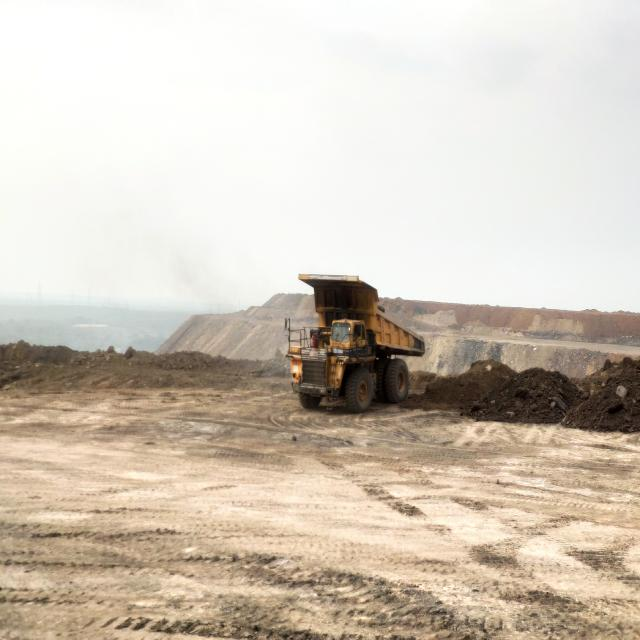dump_truck: (286, 275, 425, 413)
